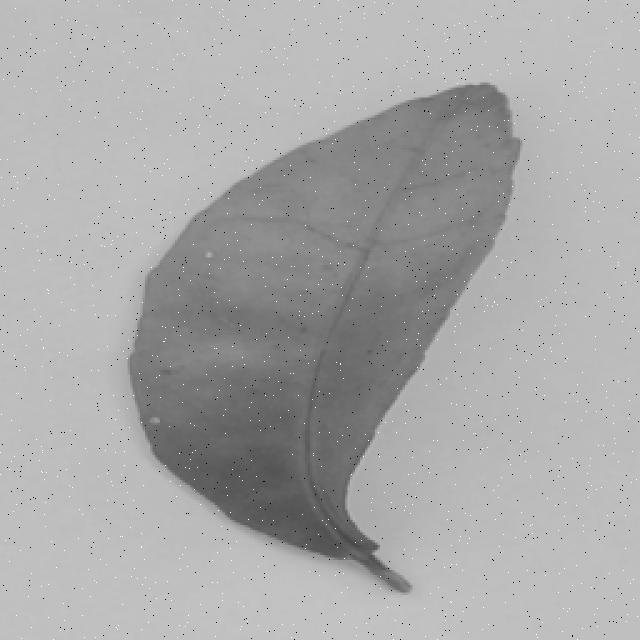blackspot: (121, 79, 524, 608)
